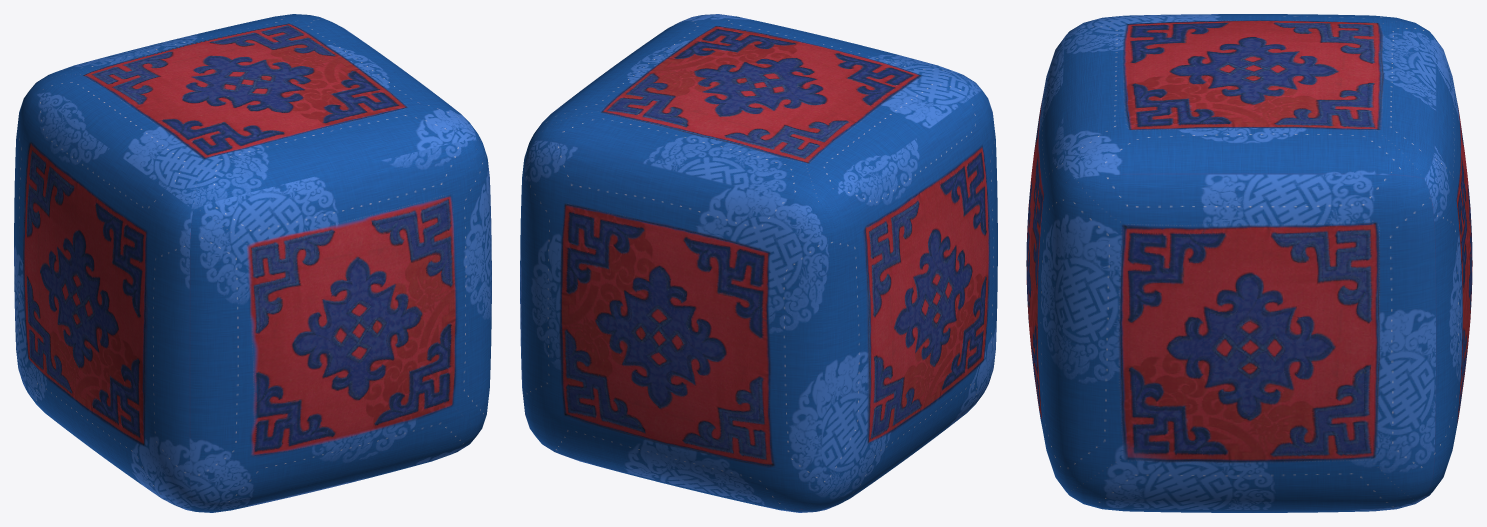
File: SM_ArmrestCushion.fbx
3 views of the same model, side by side, from view 1: azimuth 30°, elevation 25°; view 2: azimuth 150°, elevation 25°; view 3: azimuth 270°, elevation 25° (orthographic). The views are drawn at different scales.
Parts seen in each view (by area): view 1: SM_ArmrestCushion; view 2: SM_ArmrestCushion; view 3: SM_ArmrestCushion.
Boxes of the visible parts, bbox=[...] form: SM_ArmrestCushion: bbox=[14, 14, 491, 512]; SM_ArmrestCushion: bbox=[520, 14, 997, 512]; SM_ArmrestCushion: bbox=[1026, 14, 1472, 512].
Size of the model in its own units: 26.44 by 25.73 by 26.88.
1 material, 1 textured.
